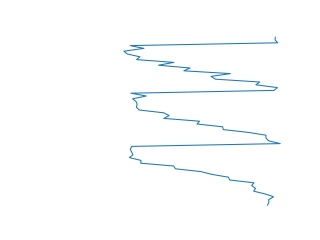distributaryMouthBar: (120, 36, 284, 205)
